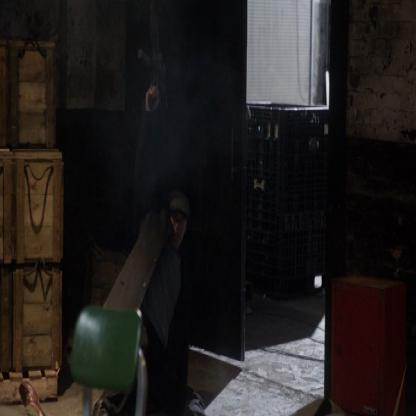Guns: (132, 0, 172, 125)
